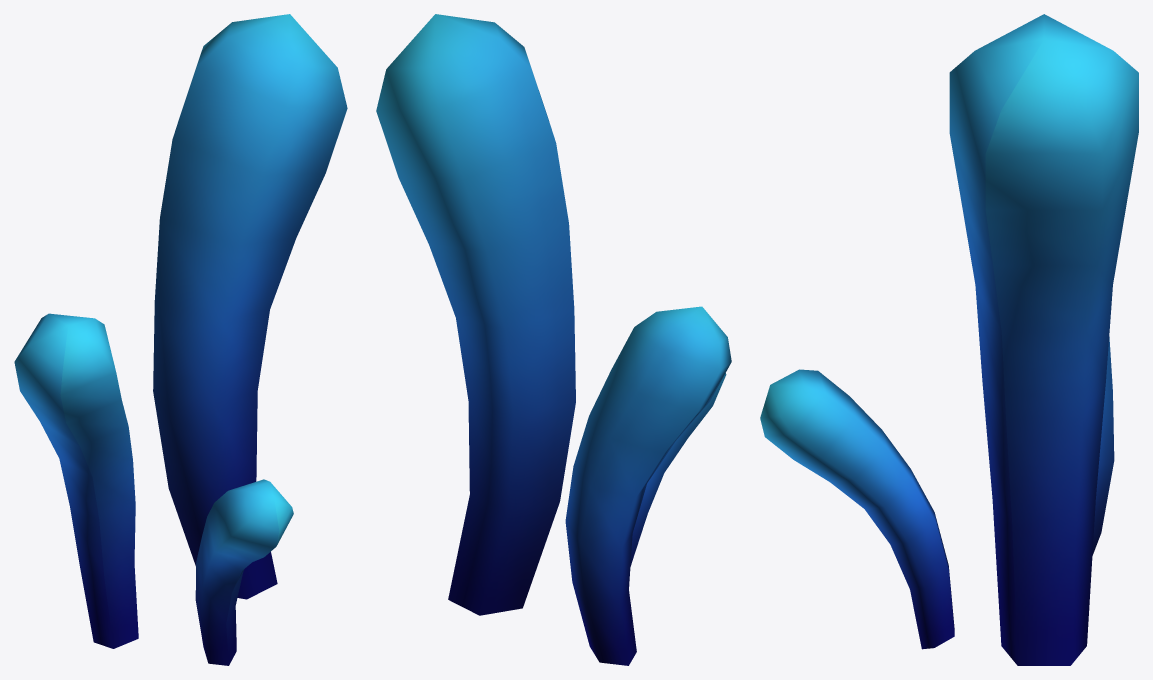
The model's file is Cartoon Seaweed_13-2-42.fbx.
3 views of the same model, side by side, from view 1: azimuth 30°, elevation 25°; view 2: azimuth 150°, elevation 25°; view 3: azimuth 270°, elevation 25° (orthographic). The views are drawn at different scales.
Visible parts, largest first — view 1: Cartoon Seaweed_13.2.42; view 2: Cartoon Seaweed_13.2.42; view 3: Cartoon Seaweed_13.2.42.
Part boxes in pixels (x1,y1,x2,y2): Cartoon Seaweed_13.2.42: (14, 14, 347, 665); Cartoon Seaweed_13.2.42: (376, 14, 731, 665); Cartoon Seaweed_13.2.42: (760, 14, 1138, 665).
Size of the model in its own units: 4.25 by 7.71 by 3.92.
1 material, 1 textured.
